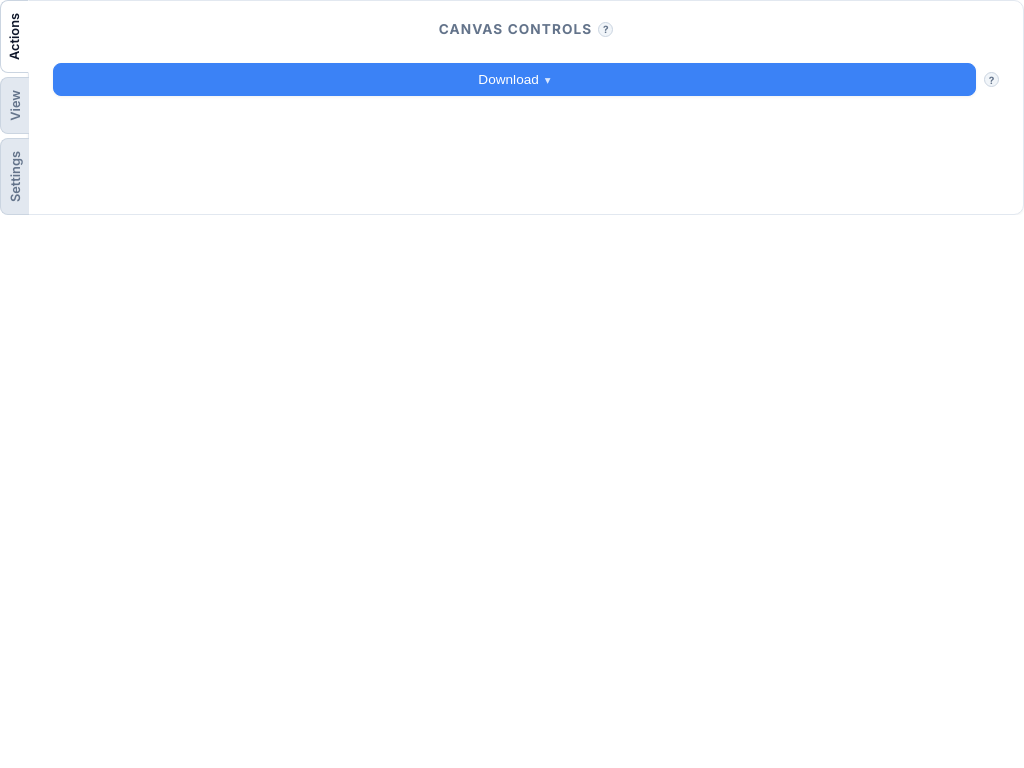
Test: CanvasControls help icons › shows a help icon for the panel title explaining the tabs
Click the button named "Help: Canvas Controls" at coordinates (606, 29), box [598,22,613,36]
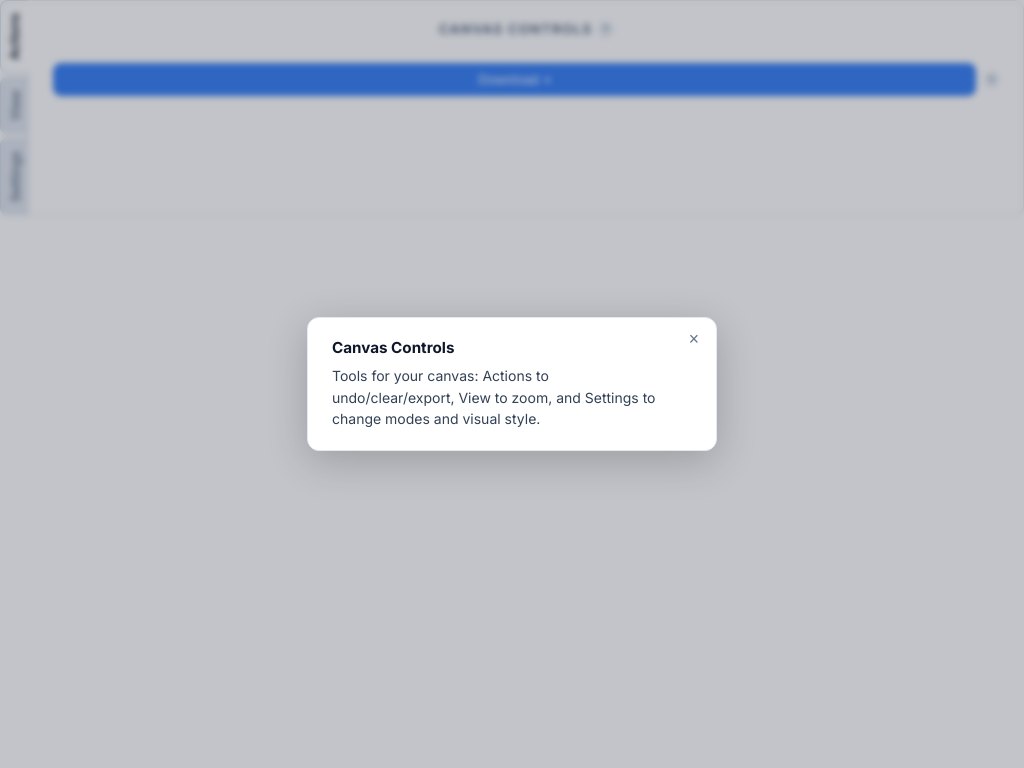
Expected: the dialog is shown, [307,317,717,451]
Expected: the text "Actions to undo" is shown, [332,367,656,427]
